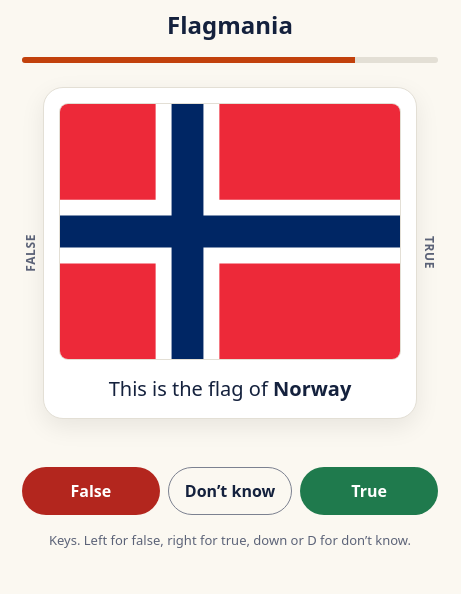
Test: a first session › plays through, then keeps progress after a reload
Earlier steps of the test are not shown.
Later steps or results of the test are not shown.
Click the button "True".
click(369, 491)  # box [300,467,438,515]
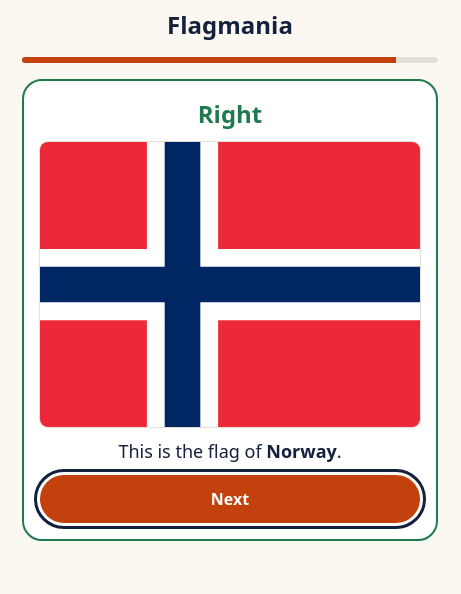
Click the button "Next".
click(230, 499)  # box [40,475,420,523]
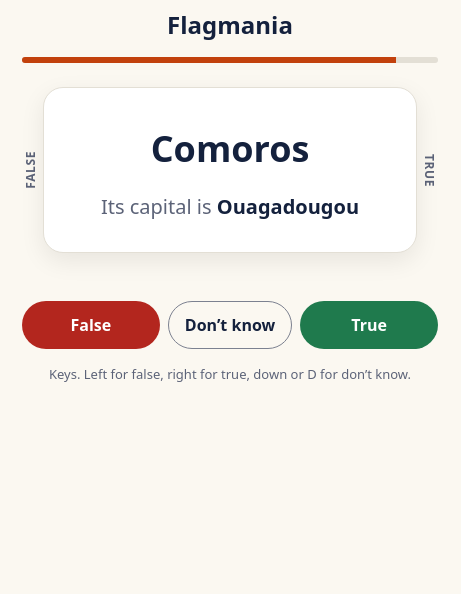
Click the button "True".
click(369, 325)  # box [300,301,438,349]
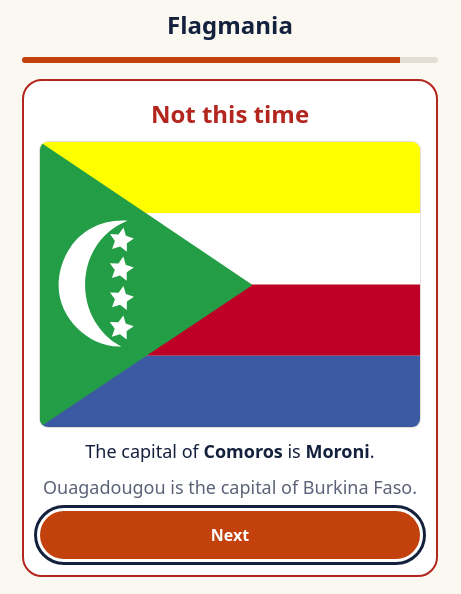
Click the button "Next".
click(230, 535)  # box [40,511,420,559]
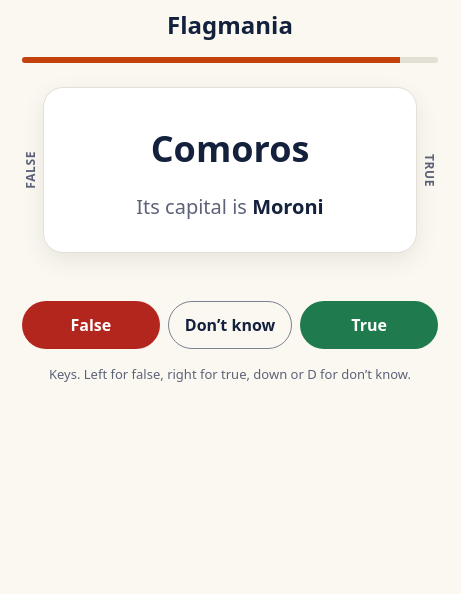
Click the button "True".
click(369, 325)  # box [300,301,438,349]
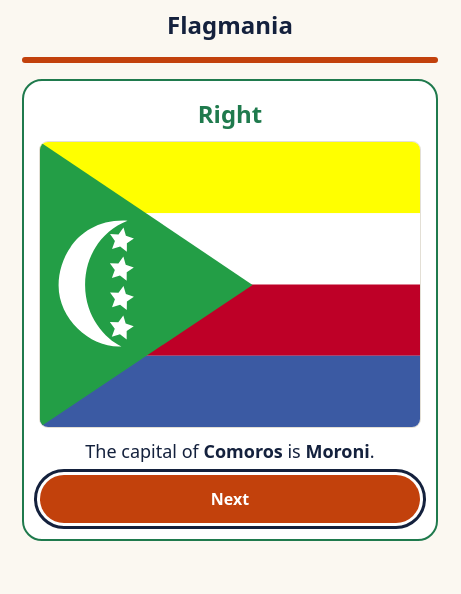
Click the button "Next".
click(230, 499)  # box [40,475,420,523]
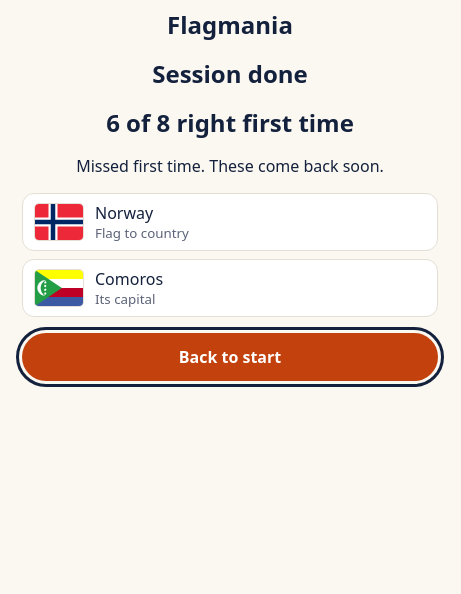
Now the text "6 of 8 right first time" is shown, box [106,106,354,139]
